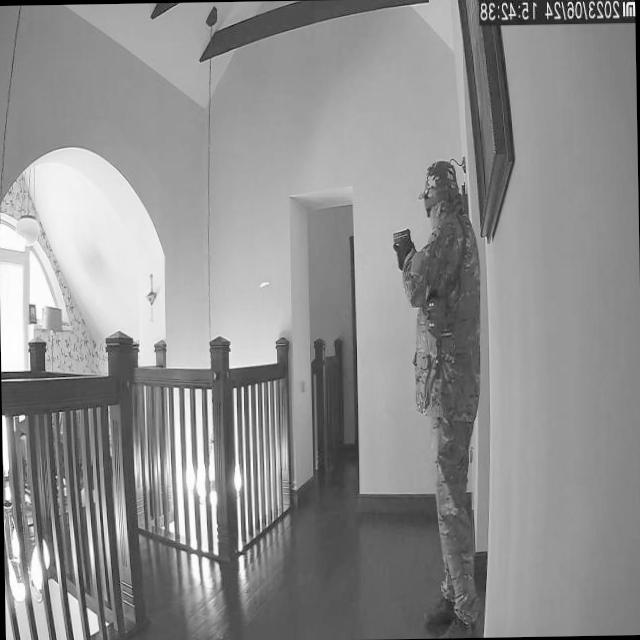gun: (390, 225, 412, 258)
person with a gun: (419, 158, 487, 636)
